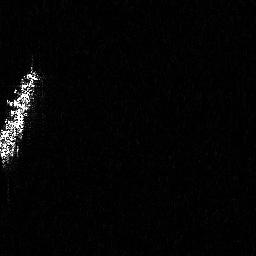ship: (1, 63, 40, 173)
